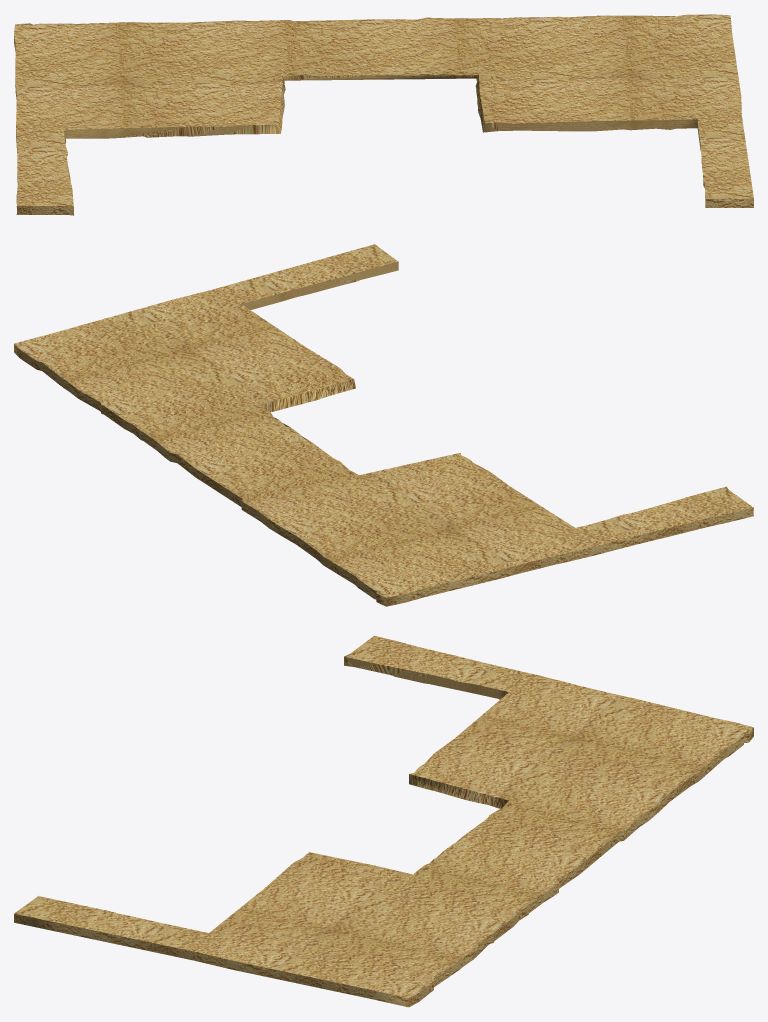
The picture shows the model from 3 angles, top to bottom: view 1: azimuth 30°, elevation 25°; view 2: azimuth 150°, elevation 25°; view 3: azimuth 270°, elevation 25°; orthographic projection. The views are drawn at different scales.
Visible parts, largest first — view 1: Q1; view 2: Q1; view 3: Q1.
Boxes of the visible parts, bbox=[...] form: Q1: bbox=[14, 14, 753, 215]; Q1: bbox=[14, 244, 753, 606]; Q1: bbox=[14, 635, 753, 1007].
Size of the model in its own units: 1718 by 20 by 1480.
Materials: 1 (1 with a texture image).
